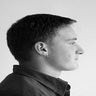ear: (31, 35, 54, 60)
